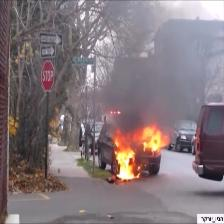fire: (110, 130, 163, 178)
smoke: (115, 55, 191, 130)
